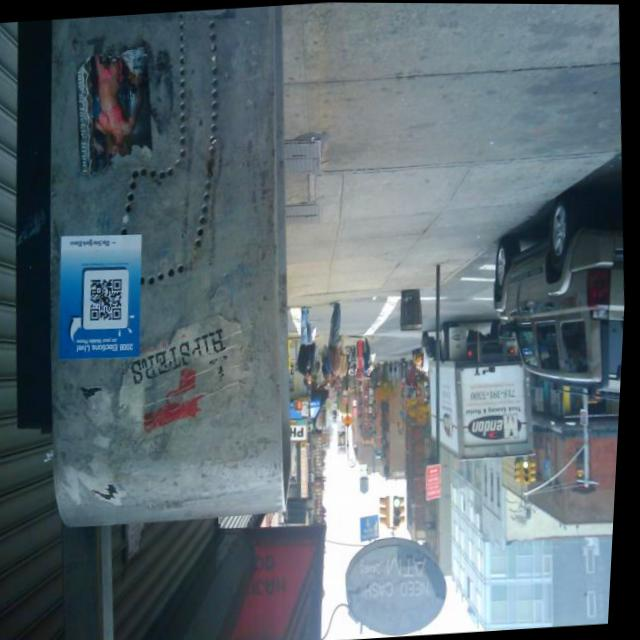qrcode: (91, 278, 127, 321)
